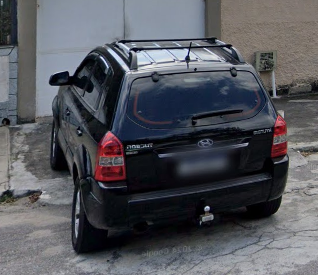car: (46, 39, 290, 255)
